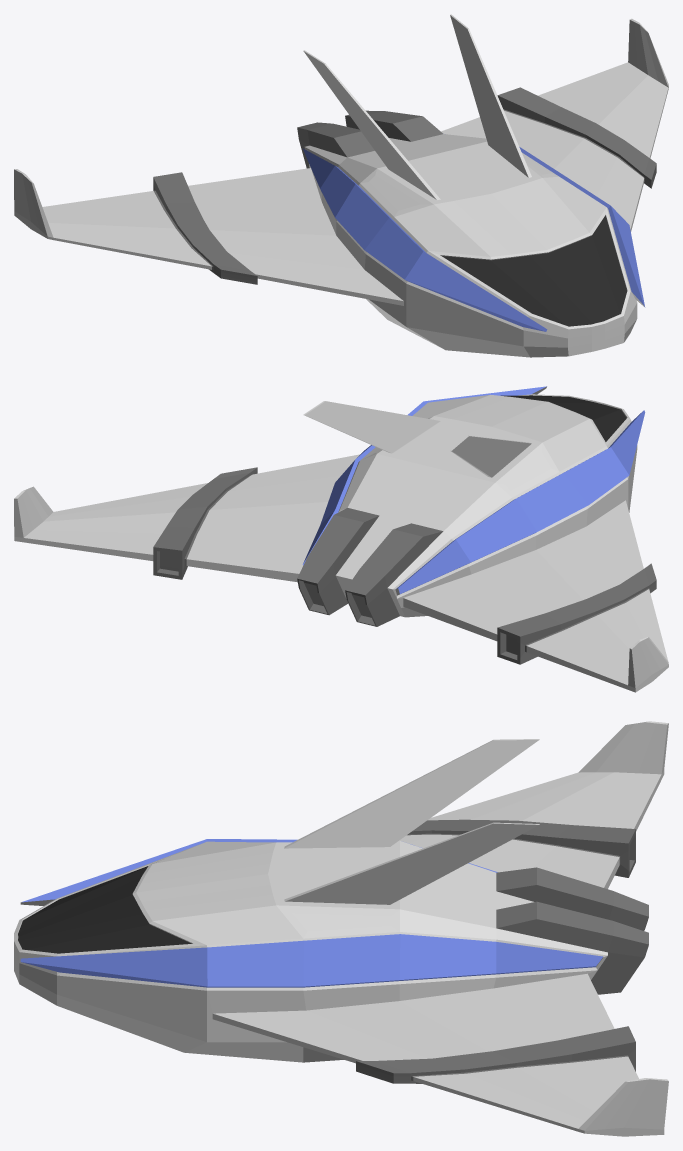
Rendered from ship_23.fbx.
3 renders of one model, top to bottom at view 1: azimuth 30°, elevation 25°; view 2: azimuth 150°, elevation 25°; view 3: azimuth 270°, elevation 25°, orthographic. The views are drawn at different scales.
Parts seen in each view (by area): view 1: ship_23; view 2: ship_23; view 3: ship_23.
Boxes of the visible parts, x1,y1,x2,y2 form: ship_23: (14, 14, 668, 357); ship_23: (14, 386, 668, 692); ship_23: (14, 721, 668, 1136).
Size of the model in its own units: 1402 by 425 by 1077.
